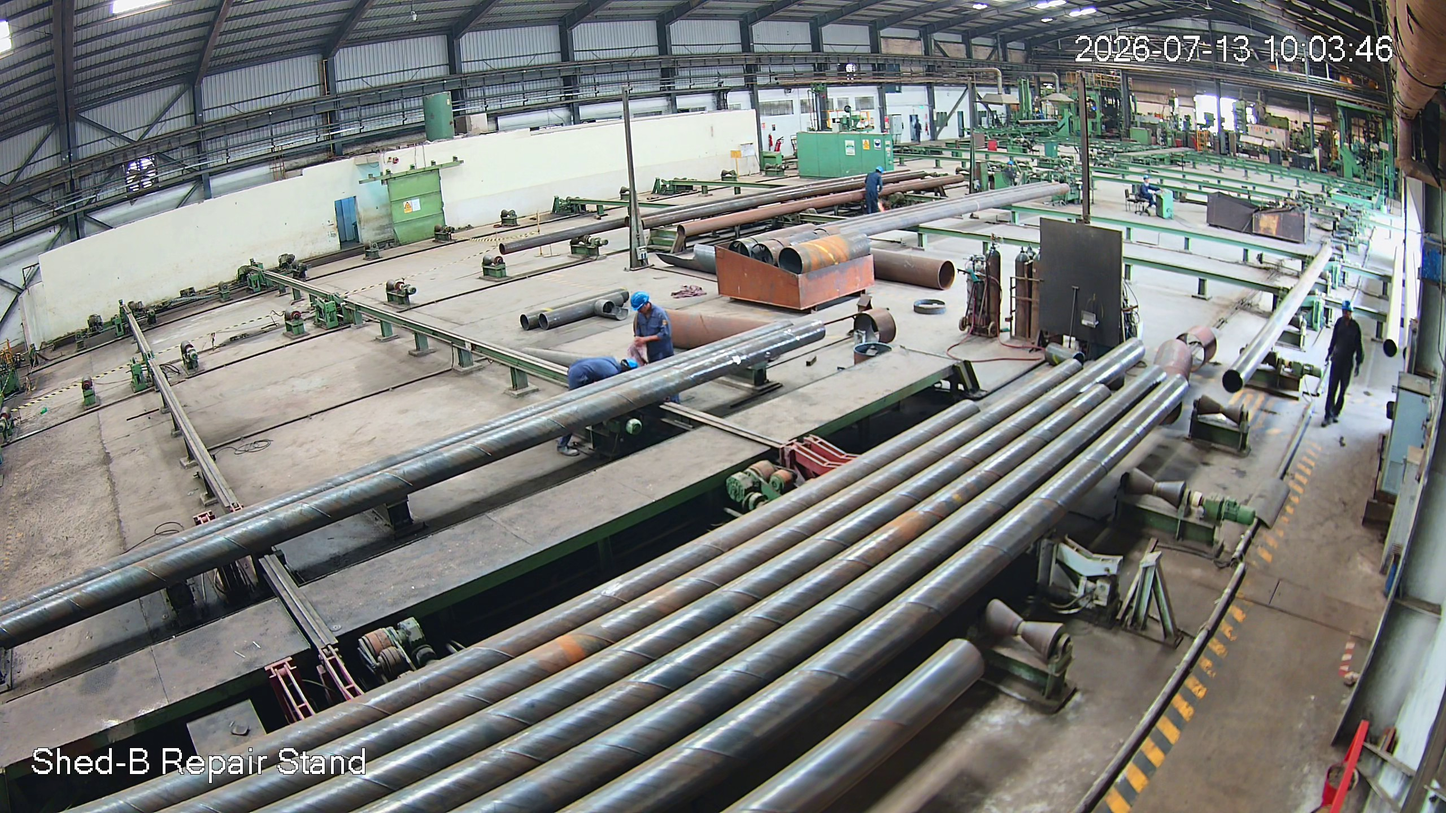Helmet: (1337, 297, 1361, 325), (629, 291, 656, 314)
Person: (1322, 299, 1362, 430), (627, 293, 675, 370), (565, 355, 636, 393)
